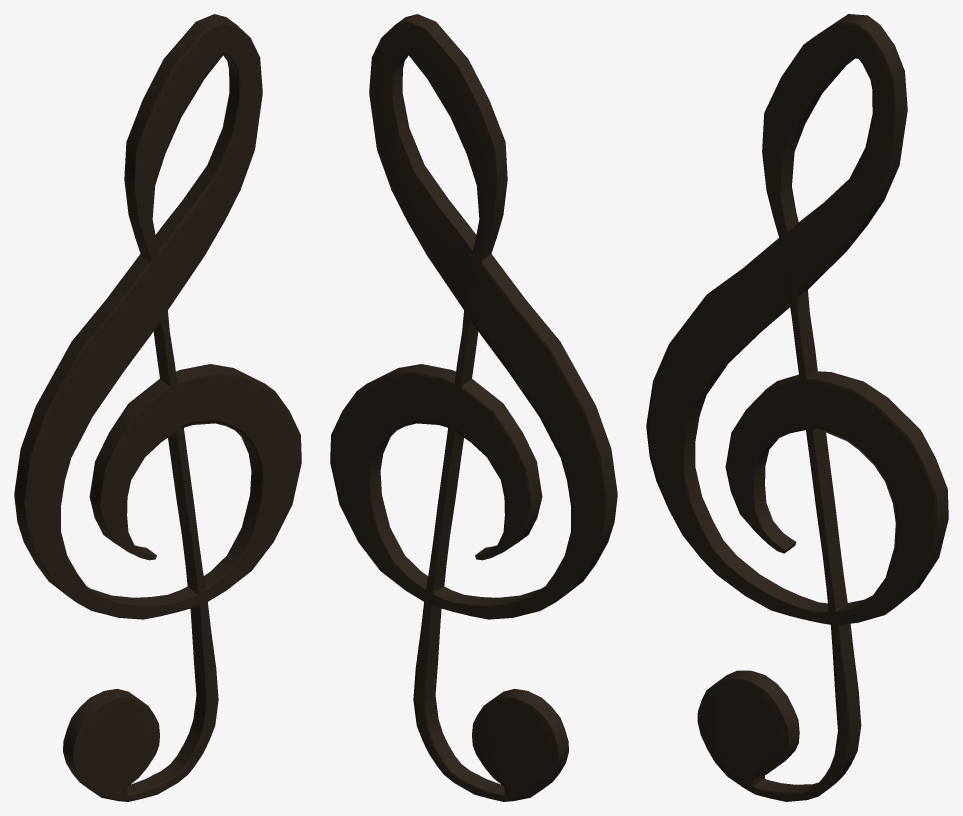
The model's file is TrebleClef.fbx.
3 renders of one model, left to right at view 1: azimuth 30°, elevation 25°; view 2: azimuth 150°, elevation 25°; view 3: azimuth 330°, elevation 25°, orthographic. The views are drawn at different scales.
Parts seen in each view (by area): view 1: treble:polySurface1; view 2: treble:polySurface1; view 3: treble:polySurface1.
Boxes of the visible parts, box(x1,y1,x2,y2) form: treble:polySurface1: box(14, 14, 301, 801); treble:polySurface1: box(330, 14, 617, 801); treble:polySurface1: box(646, 14, 948, 801).
Bounding box in the file's own units: 0.4205 × 1.1 × 0.0273.
Materials: 1 (1 with a texture image).
